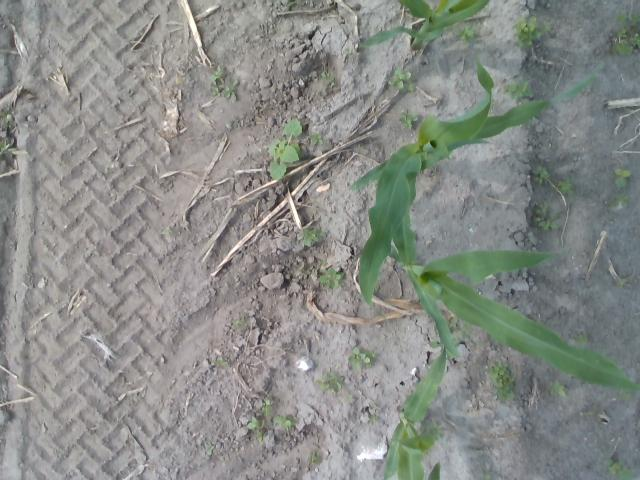Maize: (349, 55, 596, 306), (393, 140, 638, 393), (383, 347, 446, 480), (360, 0, 490, 51), (430, 461, 440, 480)
Weeds: (266, 118, 302, 180), (514, 16, 540, 48), (490, 362, 516, 389), (318, 369, 342, 392), (506, 80, 532, 101), (348, 346, 370, 370), (388, 68, 412, 89), (319, 268, 341, 289), (248, 418, 266, 442), (456, 23, 476, 42), (400, 109, 418, 130), (223, 80, 240, 102), (302, 228, 323, 245), (532, 164, 549, 184), (558, 178, 574, 196), (618, 13, 638, 27), (274, 415, 296, 427), (616, 169, 630, 187), (496, 390, 516, 402), (426, 422, 442, 437), (0, 140, 15, 156), (550, 382, 566, 395), (232, 316, 246, 330), (298, 262, 310, 278), (261, 399, 274, 413), (615, 44, 633, 54), (618, 468, 634, 479), (212, 66, 222, 82), (540, 220, 556, 230), (609, 460, 621, 472), (310, 132, 322, 144), (616, 194, 628, 206), (536, 202, 548, 214), (211, 84, 221, 96), (620, 392, 631, 402), (204, 444, 214, 455), (216, 357, 228, 366), (321, 71, 334, 79), (576, 332, 586, 342), (632, 33, 639, 47), (0, 108, 7, 120), (617, 30, 627, 38), (317, 259, 328, 266), (338, 271, 346, 279), (481, 472, 490, 479), (348, 396, 357, 403), (310, 451, 317, 460), (608, 201, 617, 208), (534, 217, 544, 223), (369, 350, 376, 358), (544, 22, 550, 30), (371, 414, 377, 421), (583, 411, 591, 416), (162, 230, 172, 234), (550, 212, 556, 218)
